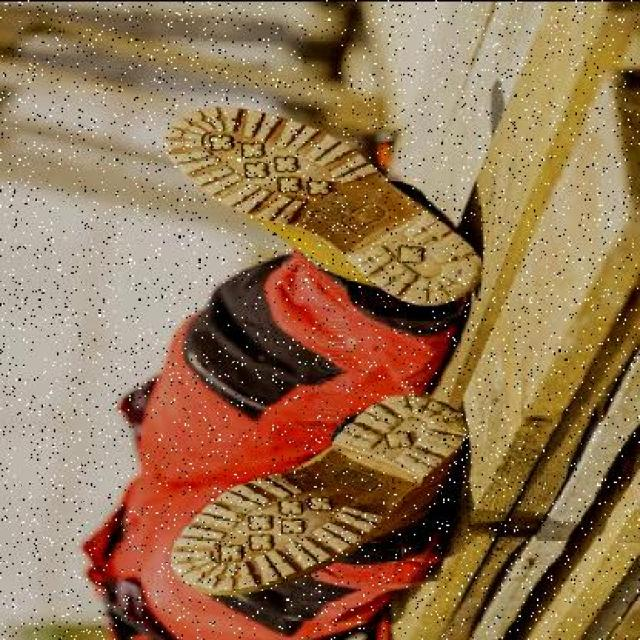shoes: (161, 107, 477, 298), (172, 396, 471, 590)
